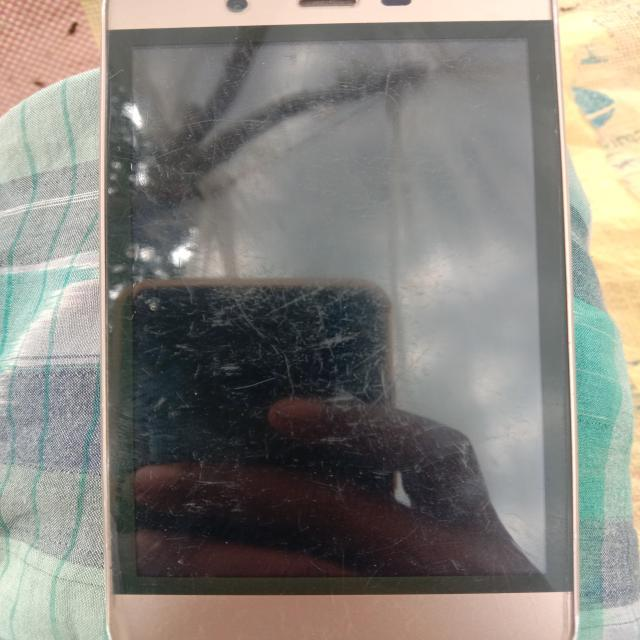scratch: (234, 257, 521, 515)
screen crack: (88, 62, 209, 308)
